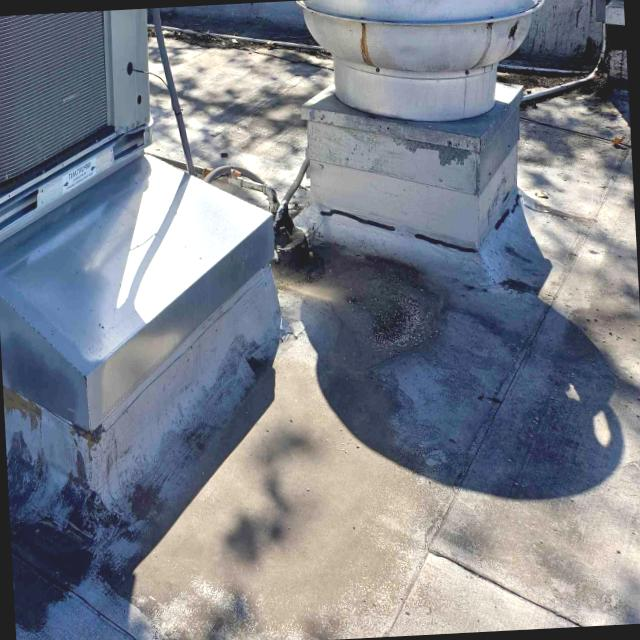GRAVITY-VENT: (279, 0, 547, 213), (585, 0, 625, 27)
RTU: (0, 7, 189, 223)
